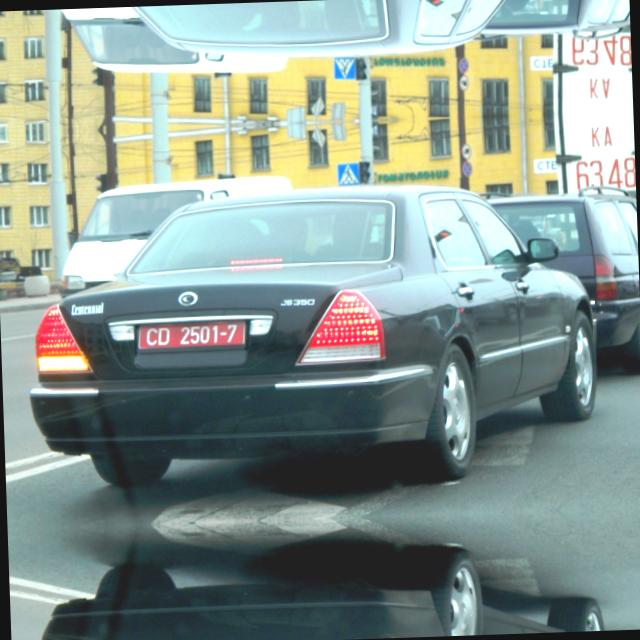diplomatic: (132, 312, 256, 362)
